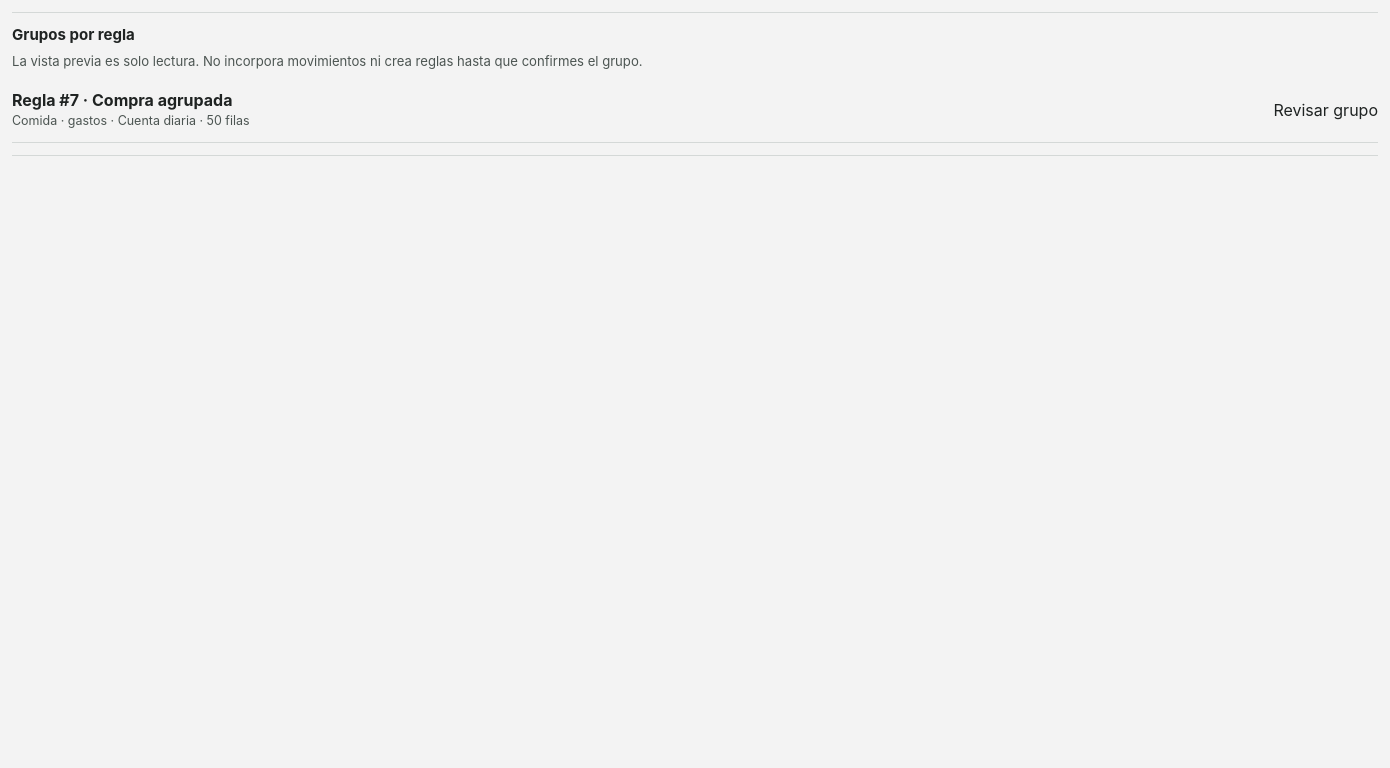
it: ReviewRuleGroups › shows a 50-row preview, excludes a selected row, and applies only after confirmation
Later steps or results of the test are not shown.
Step 1. Click the button named "Revisar grupo" → (41, 100), box [12,78,1378,142]
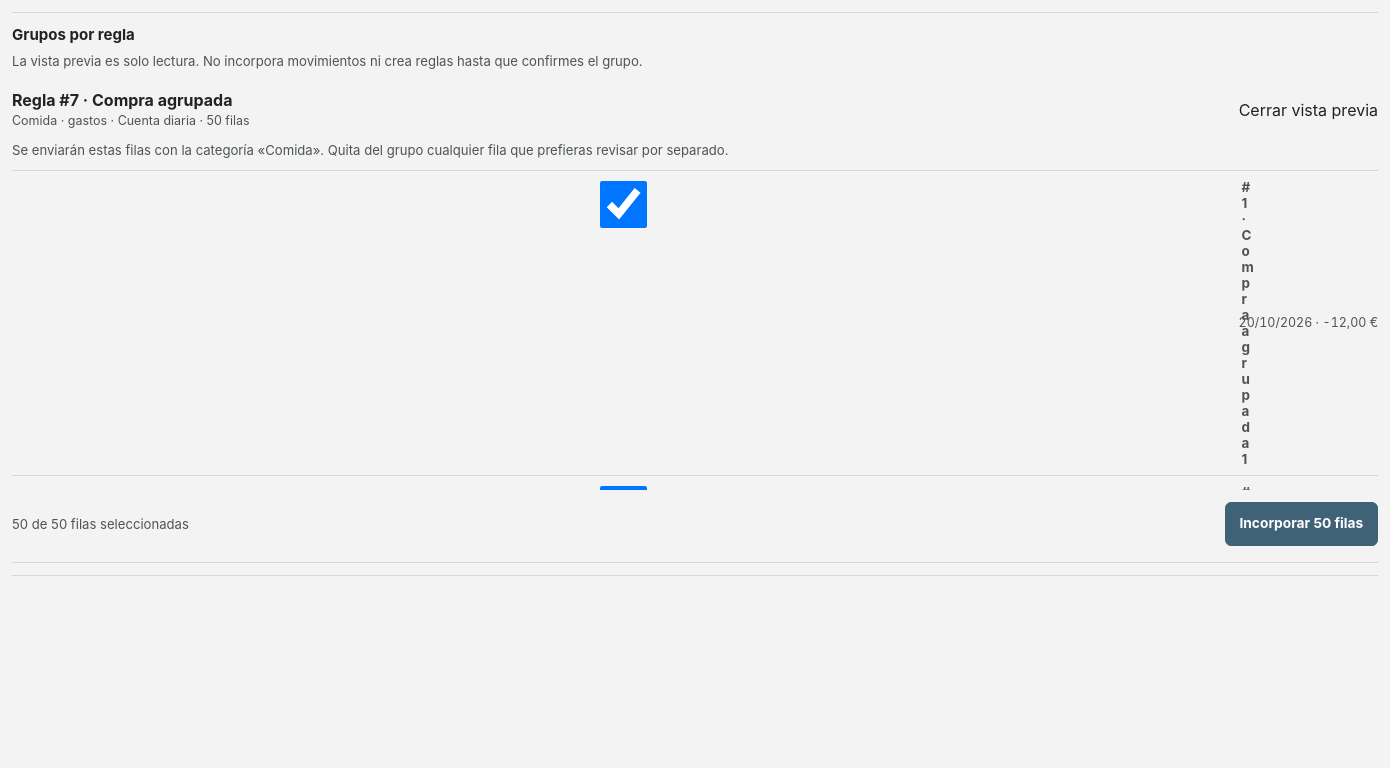
Expected: the text "50 de 50 filas seleccionadas" is shown, [12,516,189,532]
Step 2. Click the checkbox named "Incluir fila 1 en el grupo" → (623, 205), box [16,181,1231,228]
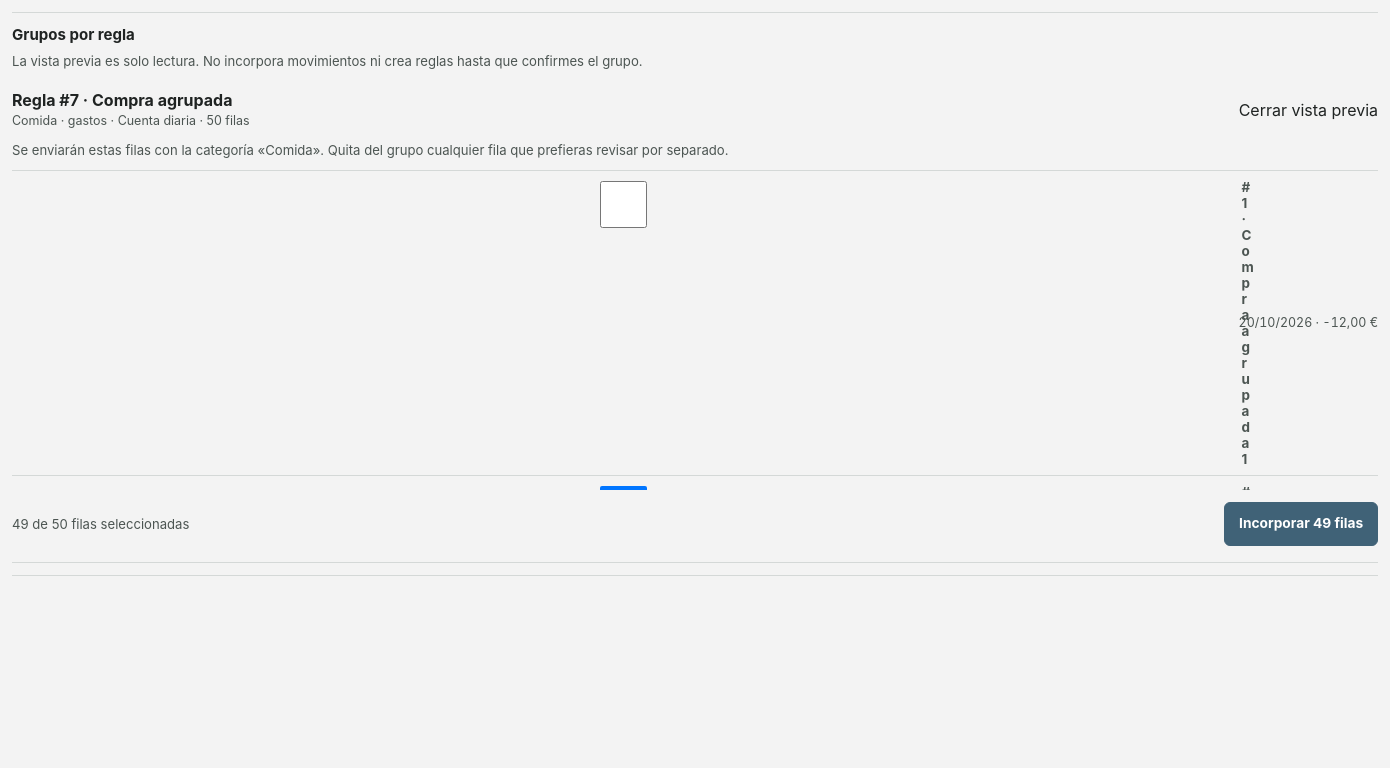
Expected: the text "49 de 50 filas seleccionadas" is shown, [12,516,189,532]
